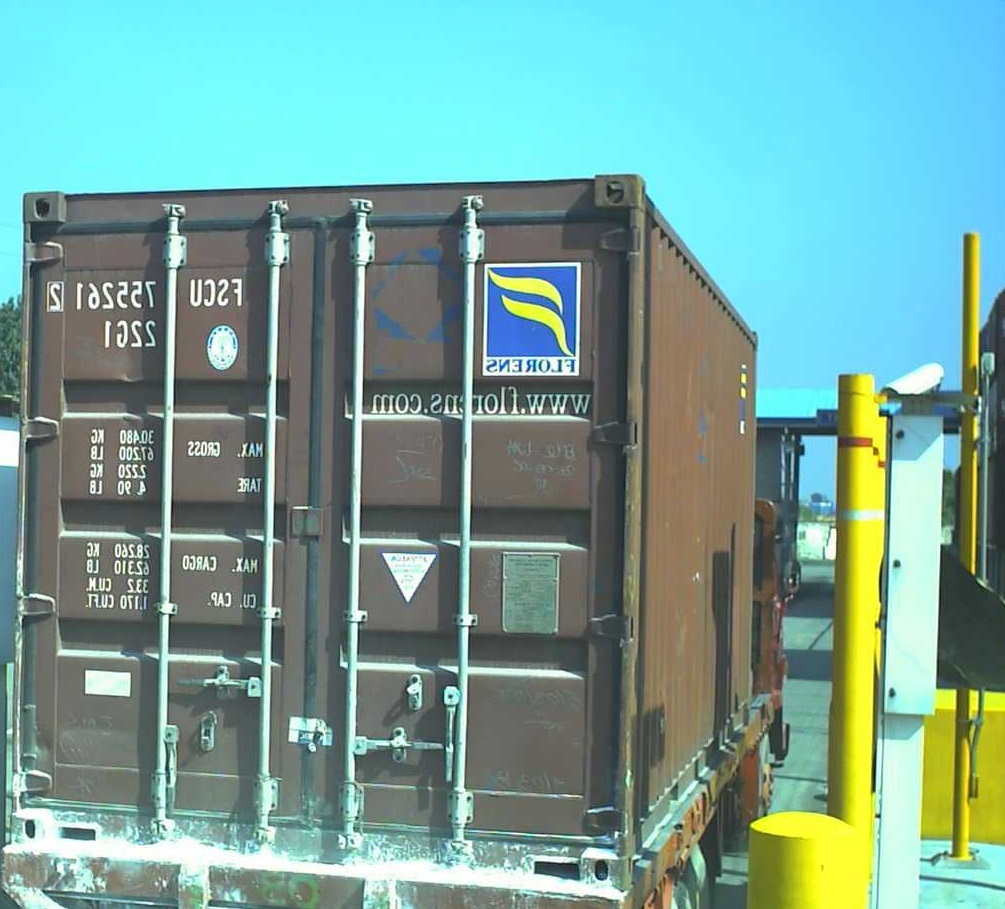container_door: (10, 174, 645, 847)
